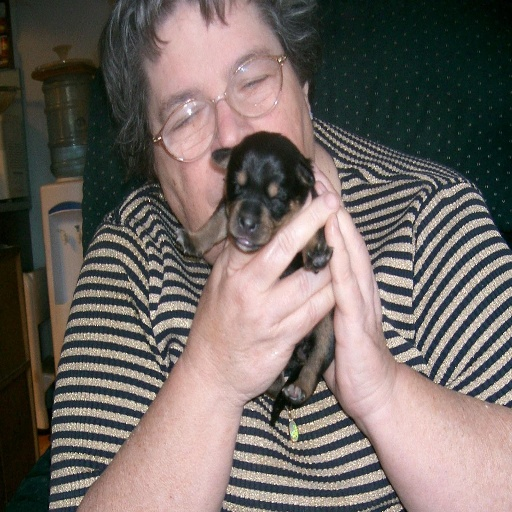hand: (300, 182, 477, 482), (188, 189, 340, 404)
